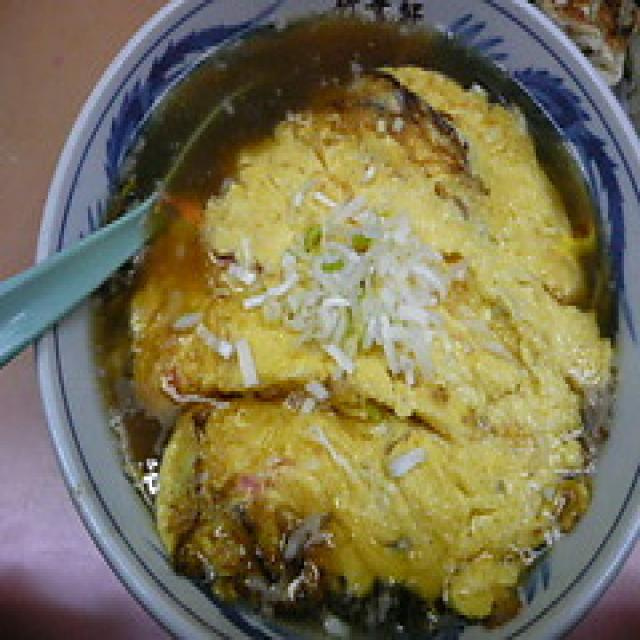面条主食: (104, 25, 608, 640)
